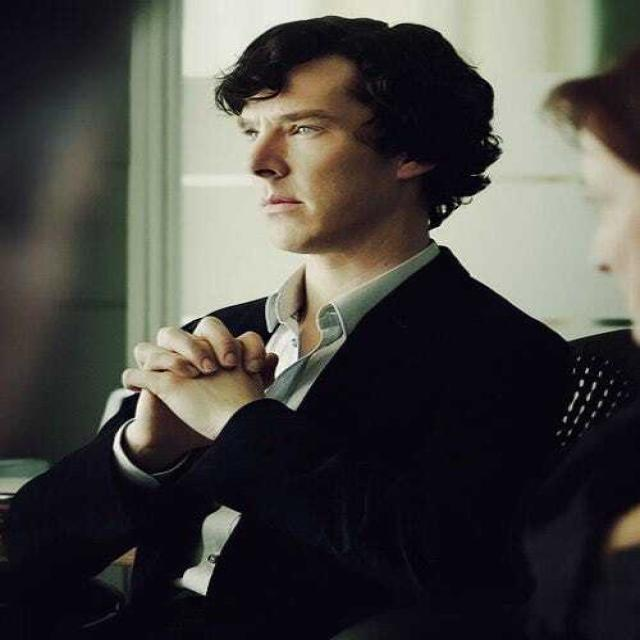Nonhelmet: (206, 12, 506, 256)
